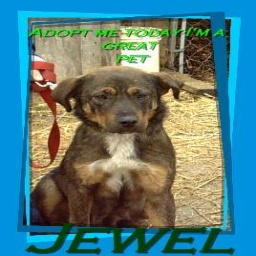dog: (30, 62, 179, 230)
